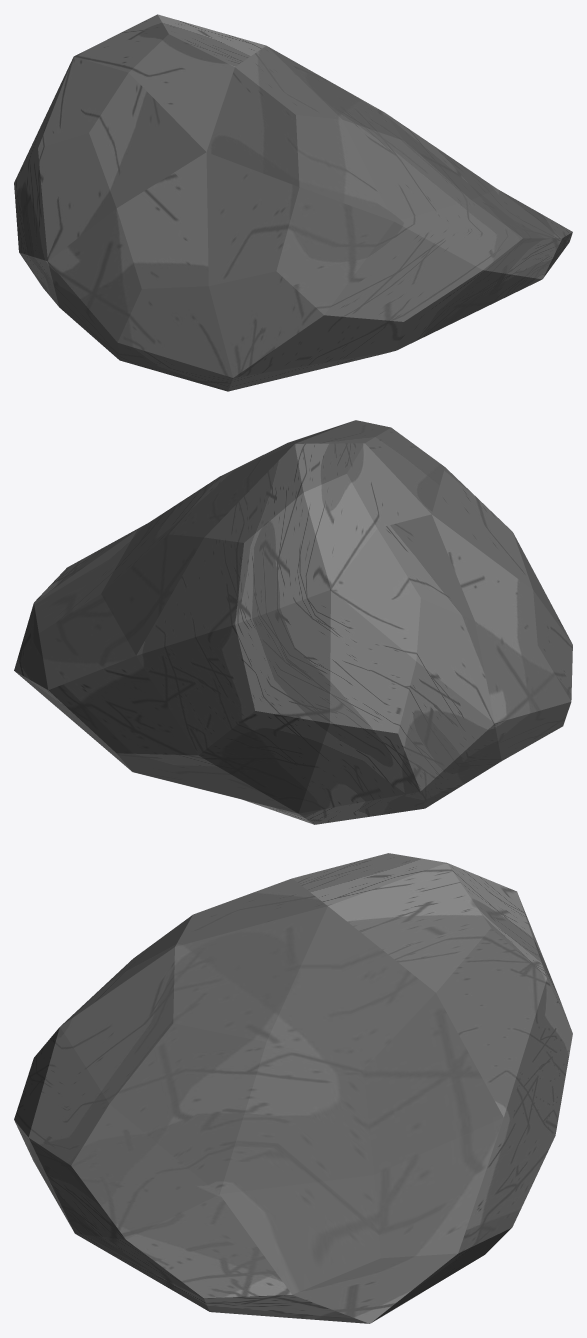
File: Rock 1-1.fbx
The picture shows the model from 3 angles, top to bottom: view 1: azimuth 30°, elevation 25°; view 2: azimuth 150°, elevation 25°; view 3: azimuth 270°, elevation 25°; orthographic projection. The views are drawn at different scales.
Visible parts, largest first — view 1: Icosphere; view 2: Icosphere; view 3: Icosphere.
Boxes of the visible parts, box(x1,y1,x2,y2) form: Icosphere: box(14, 14, 572, 391); Icosphere: box(14, 420, 572, 824); Icosphere: box(14, 853, 572, 1323).
Bounding box in the file's own units: 155 × 91.08 × 142.
